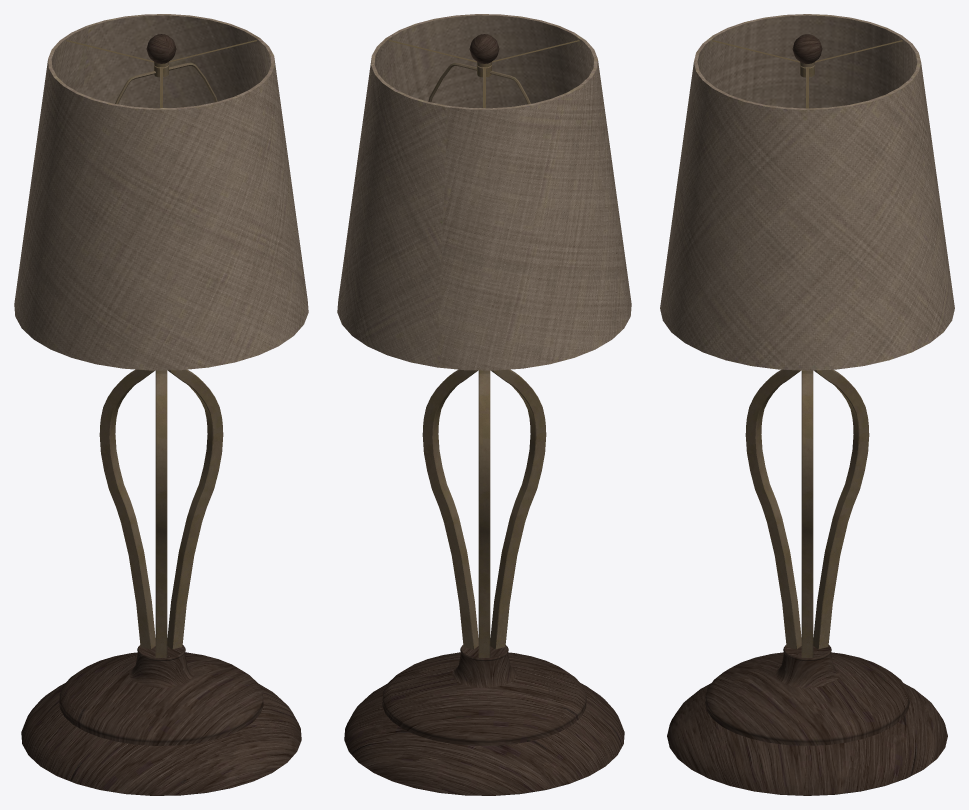
The picture shows the model from 3 angles, left to right: view 1: azimuth 30°, elevation 25°; view 2: azimuth 150°, elevation 25°; view 3: azimuth 270°, elevation 25°; orthographic projection.
Visible parts, largest first — view 1: Base_Material.001_0; view 2: Base_Material.001_0; view 3: Base_Material.001_0.
Boxes of the visible parts, x1,y1,x2,y2 form: Base_Material.001_0: (14,14,308,795); Base_Material.001_0: (337,14,631,795); Base_Material.001_0: (660,14,954,795).
Size of the model in its own units: 0.1441 by 0.378 by 0.1441.
1 material, 1 textured.
